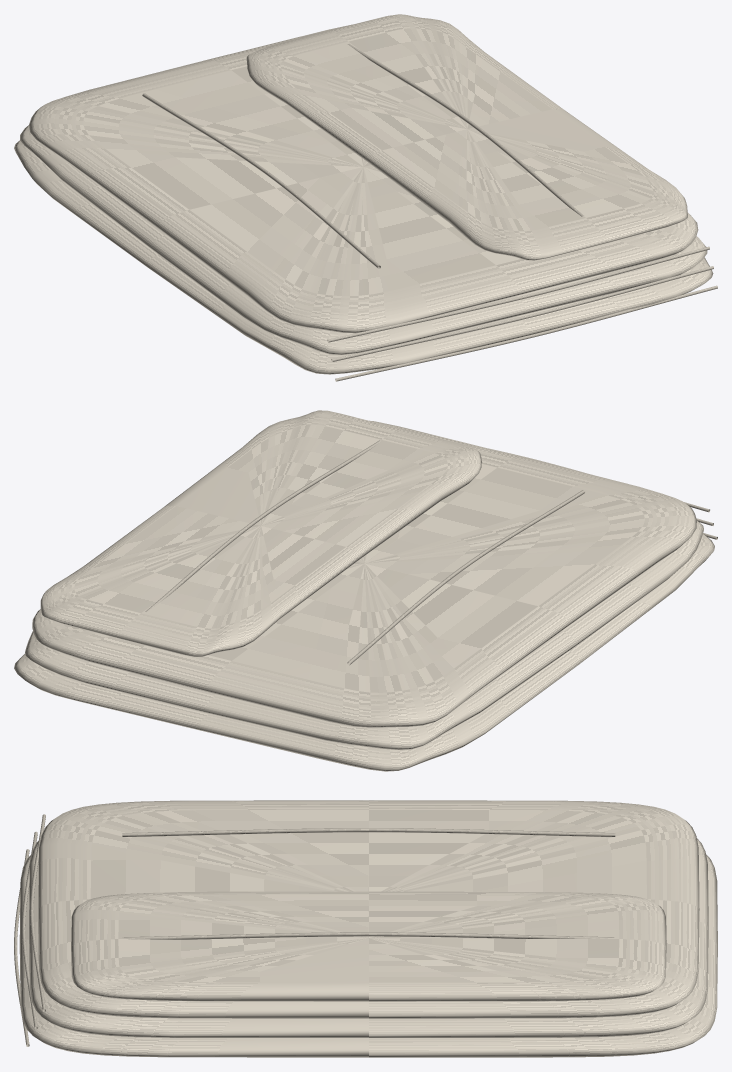
The model's file is folded.glb.
3 renders of one model, top to bottom at view 1: azimuth 30°, elevation 25°; view 2: azimuth 150°, elevation 25°; view 3: azimuth 270°, elevation 25°, orthographic. The views are drawn at different scales.
Visible parts, largest first — view 1: fabric_cream, trousers fabric seam; view 2: fabric_cream, trousers fabric seam; view 3: fabric_cream, trousers fabric seam.
Part boxes in pixels (x1,y1,x2,y2): fabric_cream: (14, 14, 713, 374); trousers fabric seam: (142, 44, 717, 381); fabric_cream: (14, 410, 714, 771); trousers fabric seam: (145, 440, 717, 665); fabric_cream: (19, 800, 717, 1057); trousers fabric seam: (14, 814, 615, 1046).
Size of the model in its own units: 0.2574 by 0.0416 by 0.3428.
2 materials, 2 textured.
